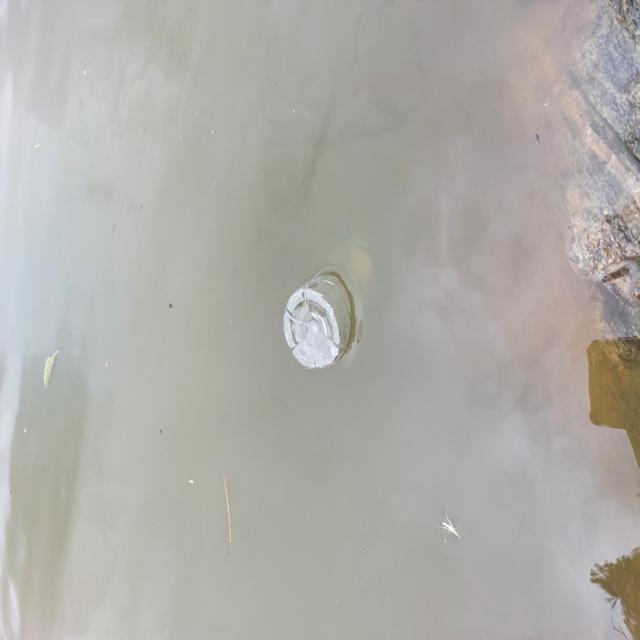waterbottle: (278, 212, 401, 382)
